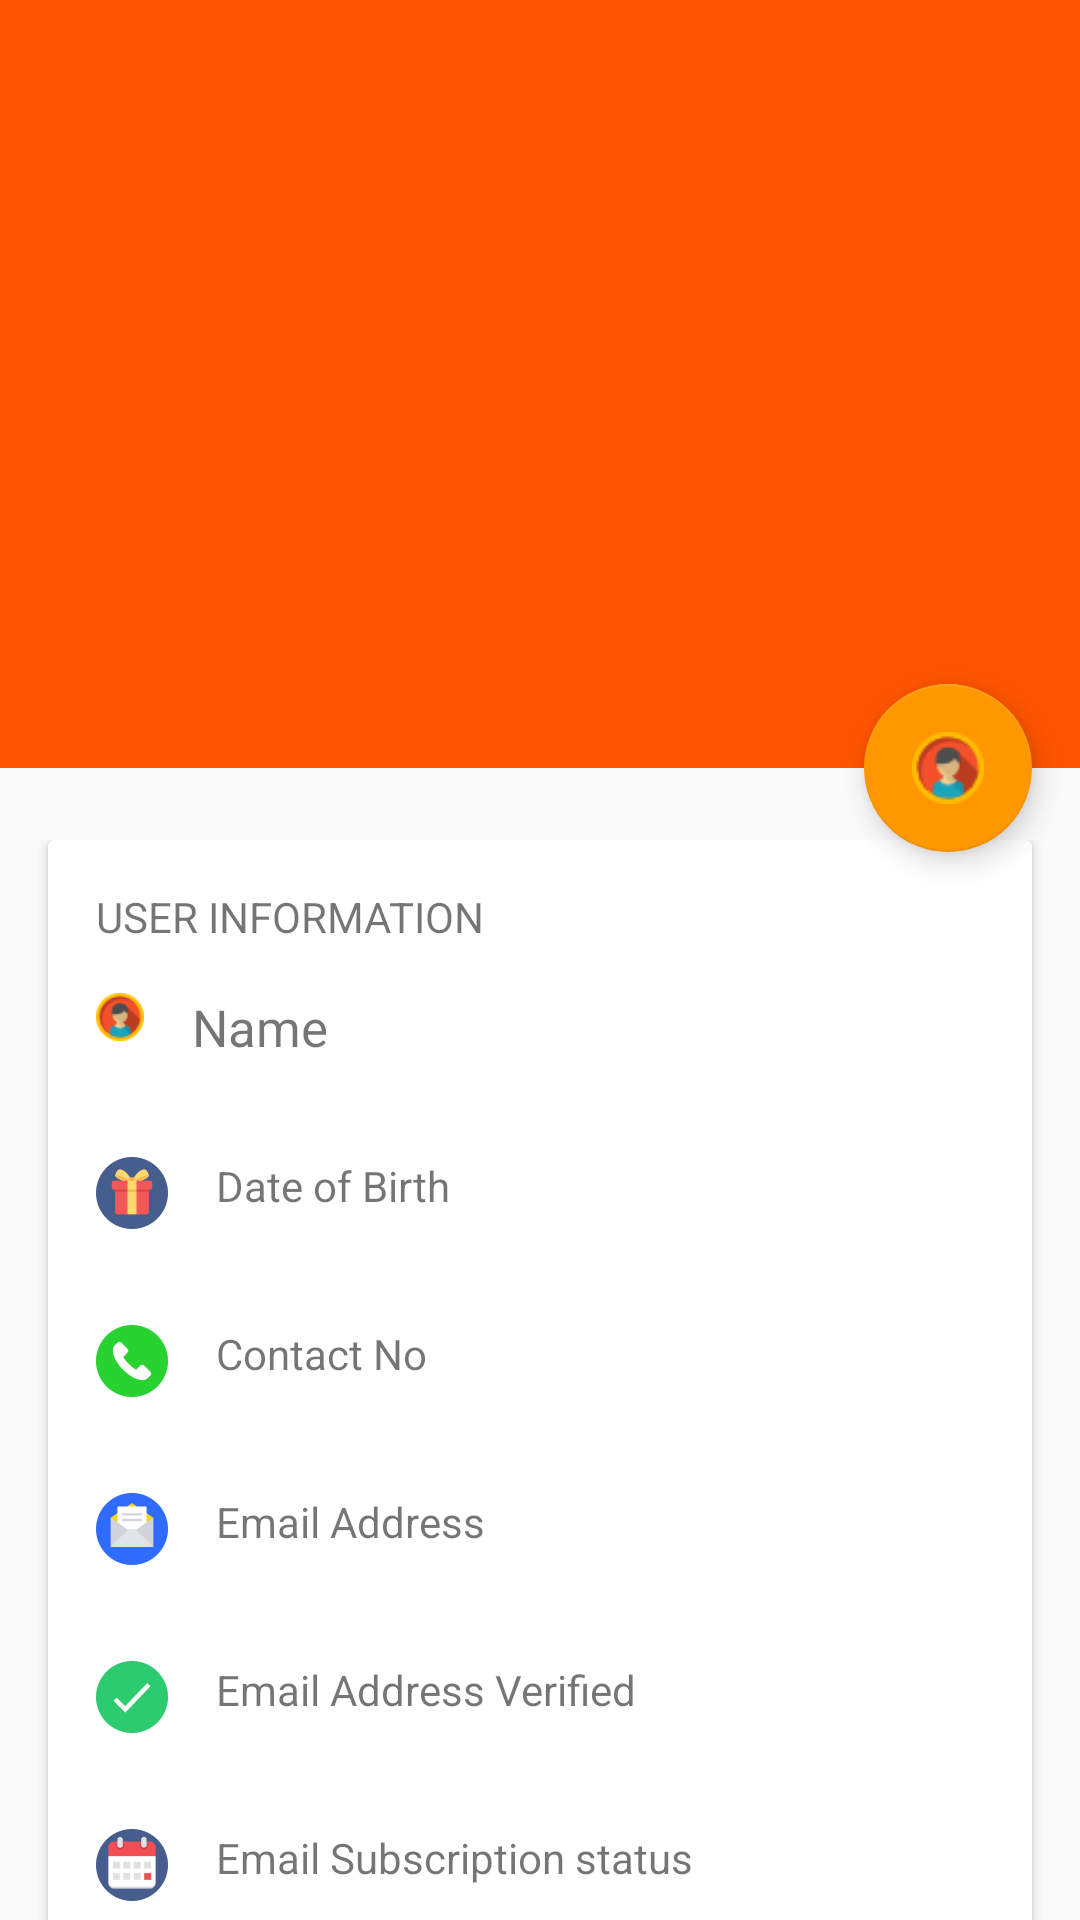

Locate icon controls on the screen. Image size 1080px×1920px, boxes as bbox=(x1, y1, x2, y2).
calendar: bbox=(96, 1829, 168, 1901)
check: bbox=(96, 1661, 168, 1733)
gift: bbox=(96, 1157, 168, 1229)
